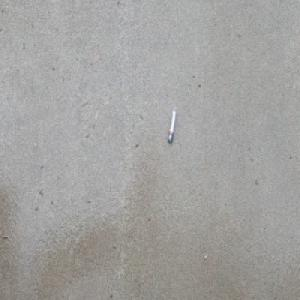Battery: (167, 110, 176, 143)
